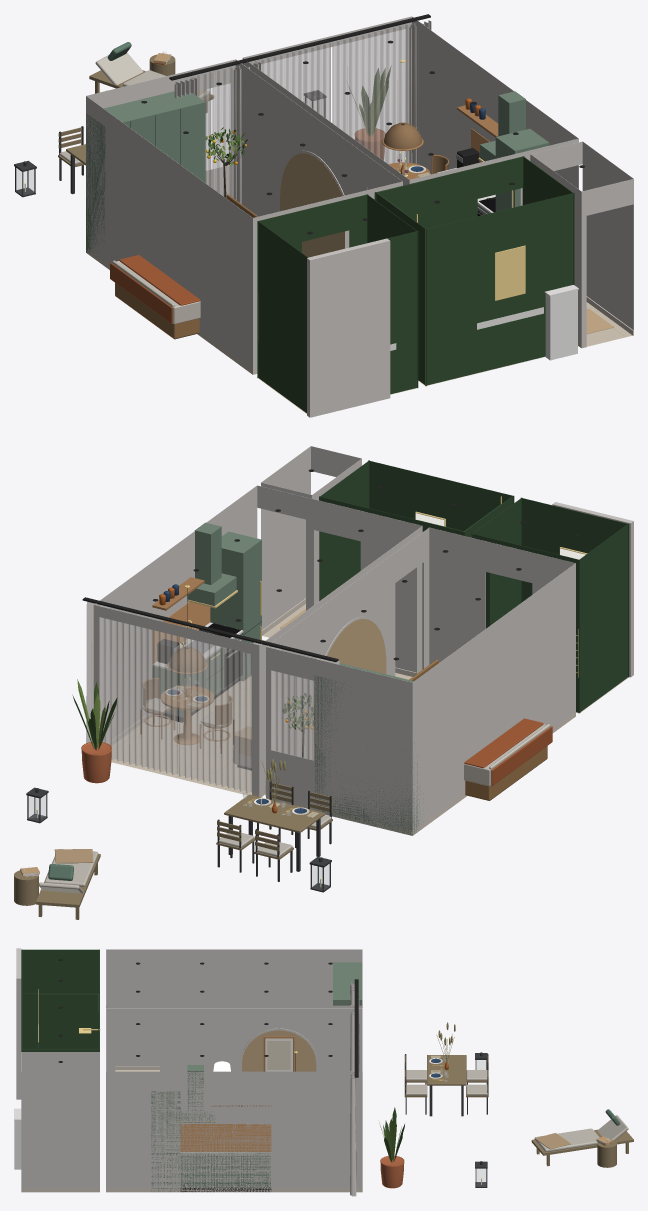
The model's file is unit-0.A-riviera.glb.
3 views of the same model, one above another, from view 1: azimuth 30°, elevation 25°; view 2: azimuth 150°, elevation 25°; view 3: azimuth 270°, elevation 25° (orthographic). The views are drawn at different scales.
Parts seen in each view (by area): view 1: int-wall, int-bathWall, int-sheer, int-joineryTall, int-feature, int-curtain, int-bedThrow, int-whiteGloss, int-metal, int-matteBlack, int-teak, int-joinery (+11 smaller); view 2: int-wall, int-bathWall, int-sheer, int-floor, int-joineryTall, int-teak, int-joinery, int-curtain, int-outdoor, int-bedThrow, int-feature, int-matteBlack (+11 smaller); view 3: int-wall, int-bathWall, int-showerWall, int-joinery, int-joineryTall, int-splash, int-teak, int-outCushion, int-skirting, int-feature, int-curtain, int-matteBlack (+4 smaller).
Boxes of the visible parts, x1=… form: int-wall: x1=86, y1=16, x2=633, y2=417; int-bathWall: x1=257, y1=156, x2=574, y2=412; int-sheer: x1=186, y1=23, x2=412, y2=197; int-joineryTall: x1=86, y1=91, x2=549, y2=256; int-feature: x1=280, y1=153, x2=344, y2=257; int-curtain: x1=174, y1=20, x2=431, y2=203; int-bedThrow: x1=110, y1=255, x2=200, y2=323; int-whiteGloss: x1=545, y1=290, x2=577, y2=360; int-metal: x1=258, y1=60, x2=525, y2=341; int-matteBlack: x1=169, y1=14, x2=495, y2=199; int-teak: x1=58, y1=54, x2=213, y2=166; int-joinery: x1=477, y1=91, x2=525, y2=213; int-wall: x1=93, y1=446, x2=633, y2=830; int-bathWall: x1=319, y1=460, x2=629, y2=713; int-sheer: x1=99, y1=617, x2=314, y2=792; int-floor: x1=111, y1=639, x2=412, y2=795; int-joineryTall: x1=210, y1=531, x2=423, y2=834; int-teak: x1=14, y1=782, x2=332, y2=919; int-joinery: x1=152, y1=522, x2=241, y2=717; int-curtain: x1=86, y1=601, x2=339, y2=795; int-outdoor: x1=26, y1=781, x2=331, y2=892; int-bedThrow: x1=464, y1=718, x2=552, y2=785; int-feature: x1=314, y1=619, x2=386, y2=760; int-matteBlack: x1=82, y1=597, x2=338, y2=722; int-wall: x1=16, y1=948, x2=362, y2=1187; int-bathWall: x1=21, y1=949, x2=99, y2=1051; int-showerWall: x1=38, y1=994, x2=99, y2=1048; int-joinery: x1=176, y1=1065, x2=270, y2=1187; int-joineryTall: x1=151, y1=962, x2=362, y2=1192; int-splash: x1=180, y1=1124, x2=271, y2=1151; int-teak: x1=404, y1=1055, x2=633, y2=1167; int-outCushion: x1=405, y1=1070, x2=628, y2=1152; int-skirting: x1=21, y1=1066, x2=362, y2=1192; int-feature: x1=242, y1=1030, x2=316, y2=1071; int-curtain: x1=350, y1=982, x2=356, y2=1196; int-matteBlack: x1=180, y1=979, x2=358, y2=1191.
Size of the model in its own units: 6.62 by 2.92 by 12.54.
